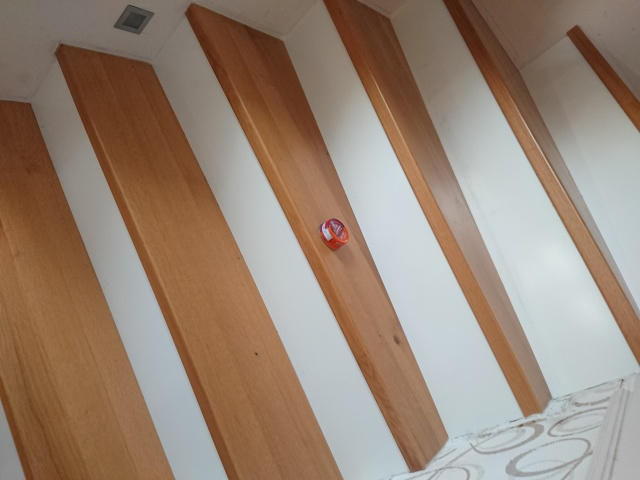Gavrilovic Pork Liver Pate 100g: (317, 216, 350, 251)
